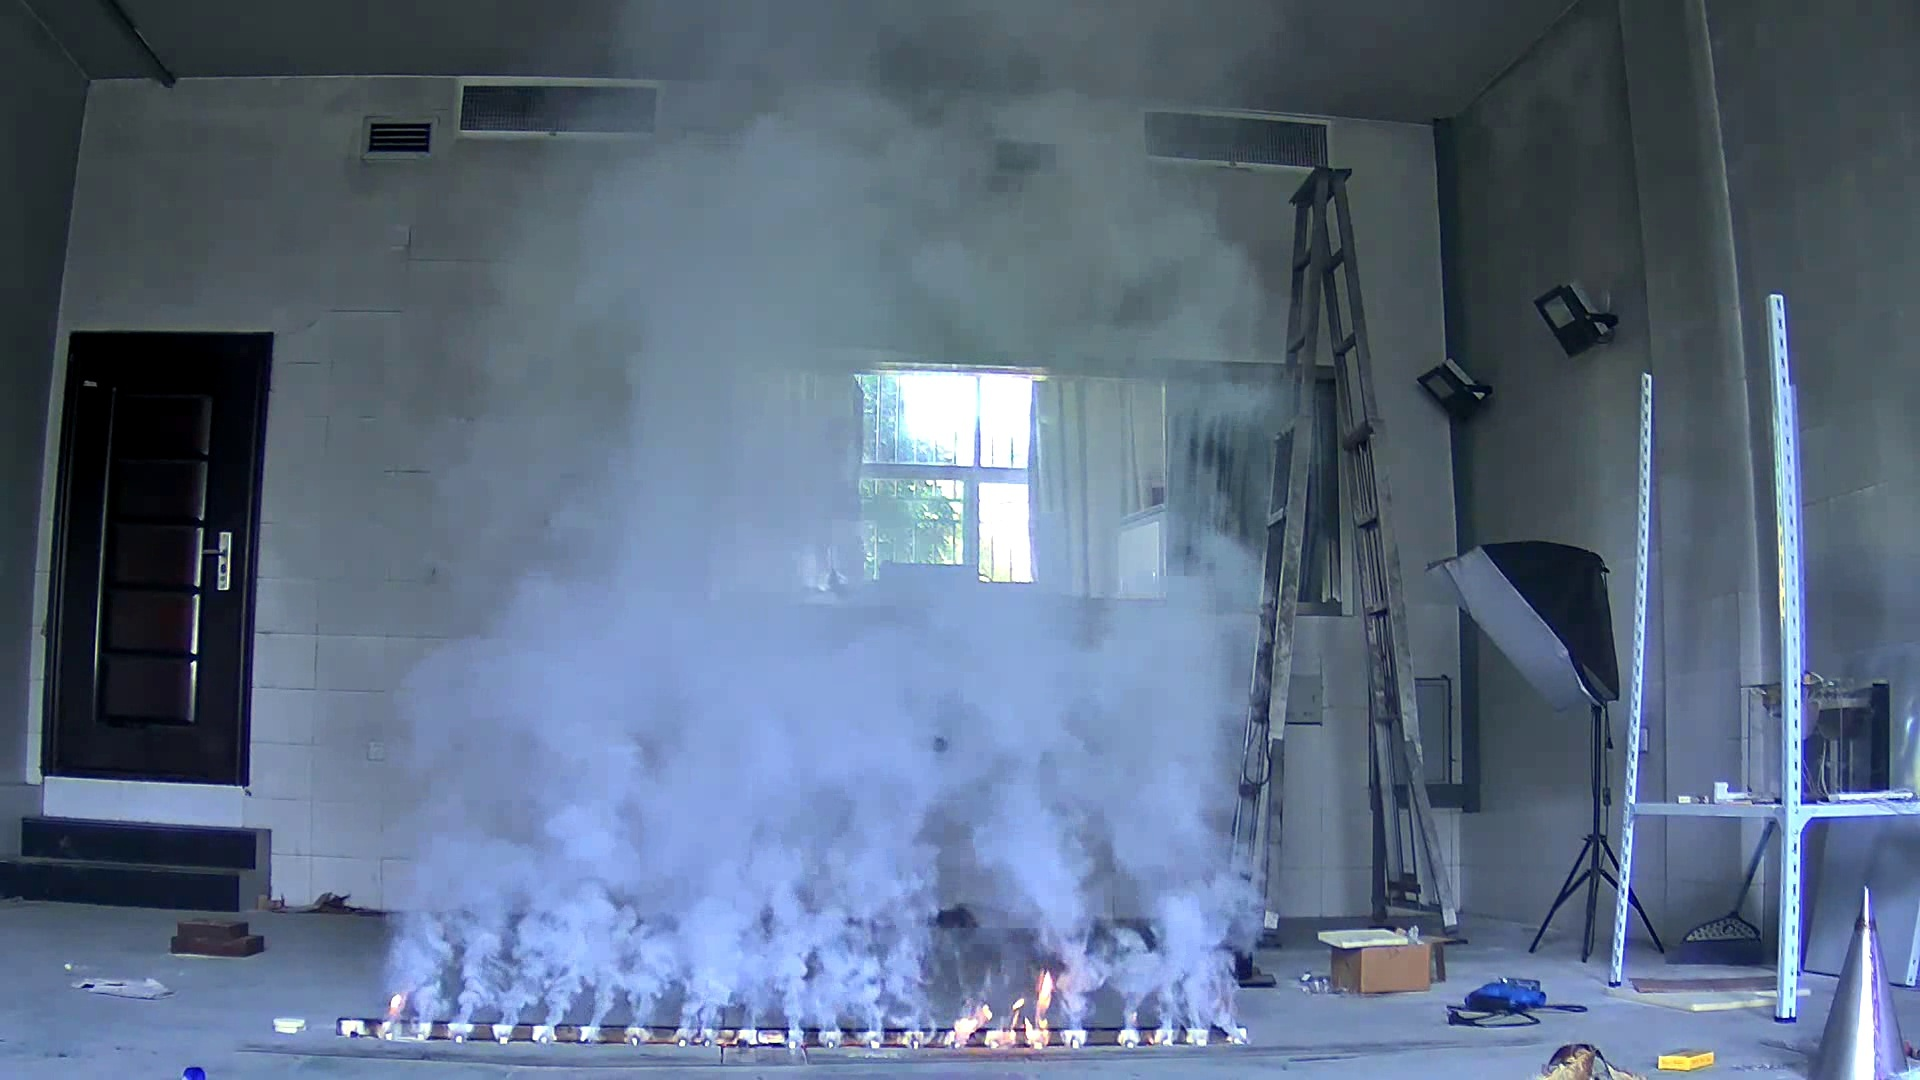smoke: (371, 512, 1269, 1034)
